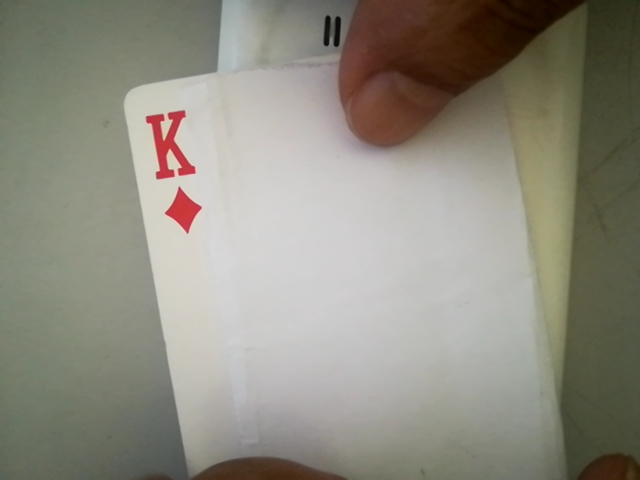fk k: (136, 102, 210, 237)
